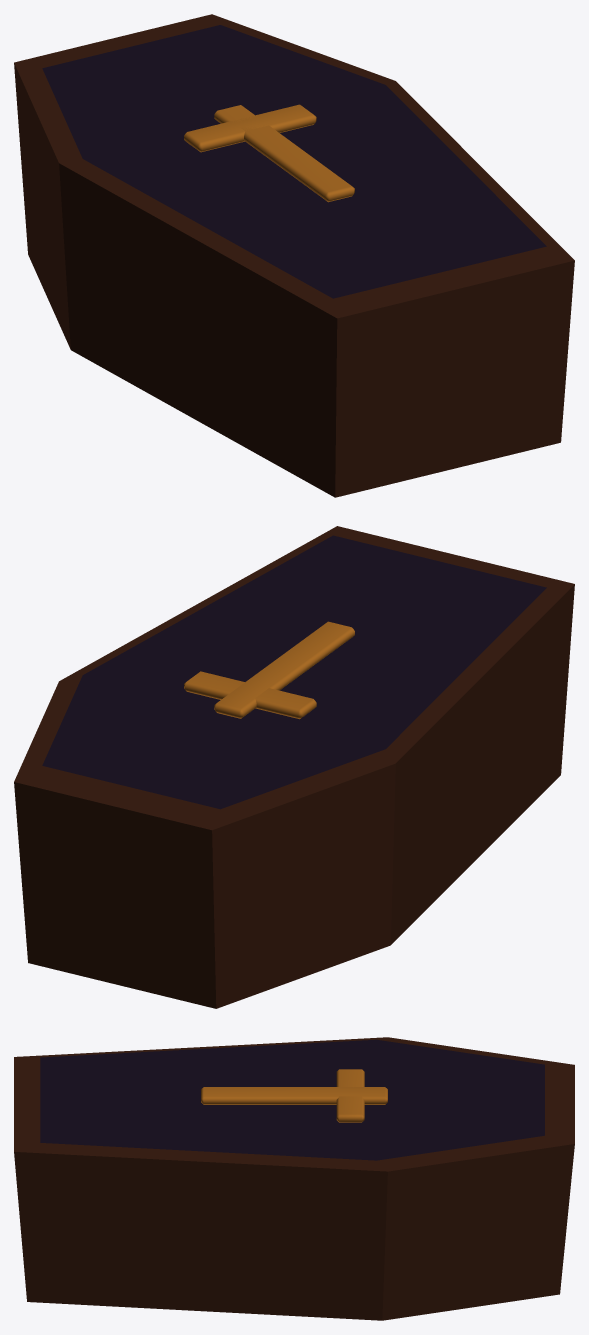
File: coffin.obj
The picture shows the model from 3 angles, top to bottom: view 1: azimuth 30°, elevation 25°; view 2: azimuth 150°, elevation 25°; view 3: azimuth 270°, elevation 25°; orthographic projection. The views are drawn at different scales.
Parts seen in each view (by area): view 1: LH_coffin; view 2: LH_coffin; view 3: LH_coffin.
Part boxes in pixels (x1,y1,x2,y2): LH_coffin: (14, 14, 574, 497); LH_coffin: (14, 526, 574, 1008); LH_coffin: (14, 1037, 574, 1320).
Size of the model in its own units: 0.34 by 0.195 by 0.6.
